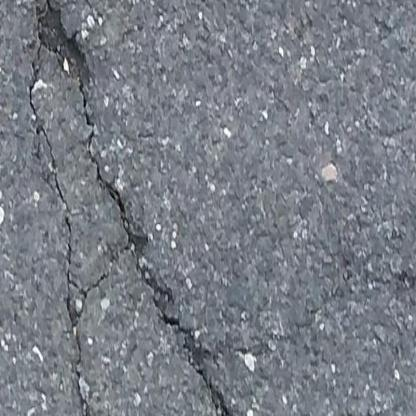Cracks: (20, 0, 244, 416)
